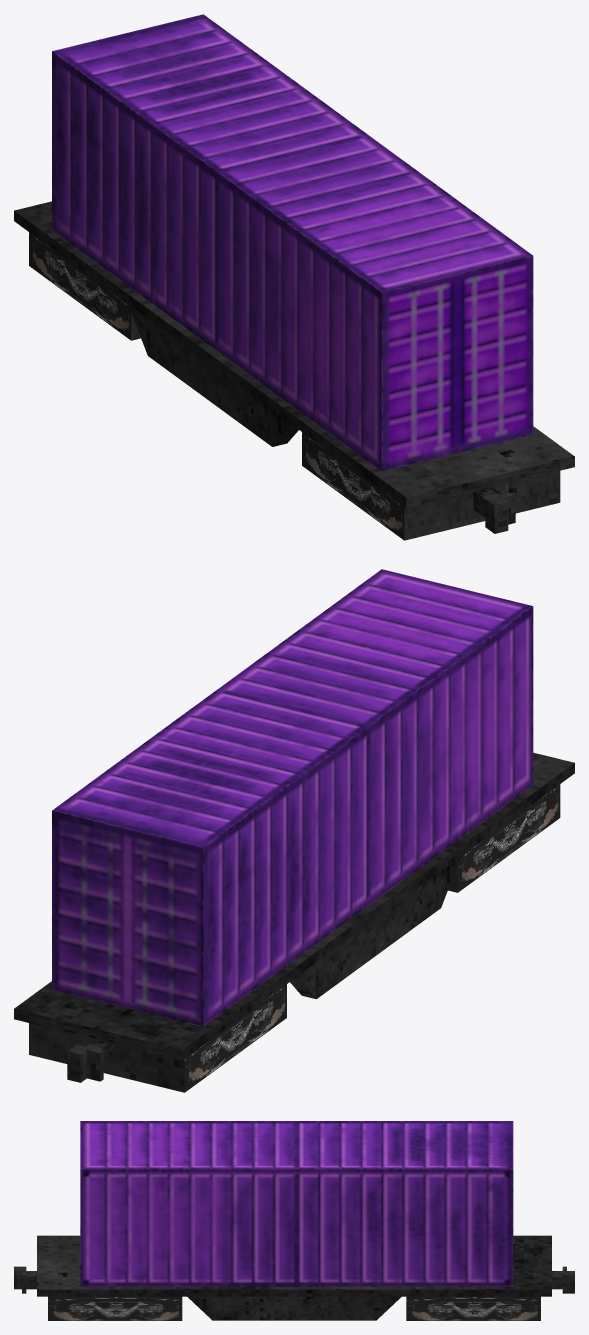
File: pixel_train_car_purple_lowpoly.fbx
The picture shows the model from 3 angles, top to bottom: view 1: azimuth 30°, elevation 25°; view 2: azimuth 150°, elevation 25°; view 3: azimuth 270°, elevation 25°; orthographic projection. The views are drawn at different scales.
Parts seen in each view (by area): view 1: psx_train_car_body_purple, psx_train_car_underbody, psx_train_car_wheels, psx_train_car_attach; view 2: psx_train_car_body_purple, psx_train_car_underbody, psx_train_car_wheels, psx_train_car_attach2; view 3: psx_train_car_body_purple, psx_train_car_underbody, psx_train_car_wheels, psx_train_car_attach, psx_train_car_attach2.
Boxes of the visible parts, x1,y1,x2,y2 form: psx_train_car_body_purple: (52,14,533,471); psx_train_car_underbody: (14,201,574,508); psx_train_car_wheels: (29,232,560,540); psx_train_car_attach: (473,487,515,533); psx_train_car_body_purple: (52,569,533,1026); psx_train_car_underbody: (14,752,574,1060); psx_train_car_wheels: (29,784,560,1092); psx_train_car_attach2: (67,1039,115,1082); psx_train_car_body_purple: (80,1121,513,1286); psx_train_car_underbody: (37,1235,551,1320); psx_train_car_wheels: (48,1296,540,1320); psx_train_car_attach: (14,1266,36,1293); psx_train_car_attach2: (552,1266,574,1293).
Size of the model in its own units: 340 by 442 by 1492.
